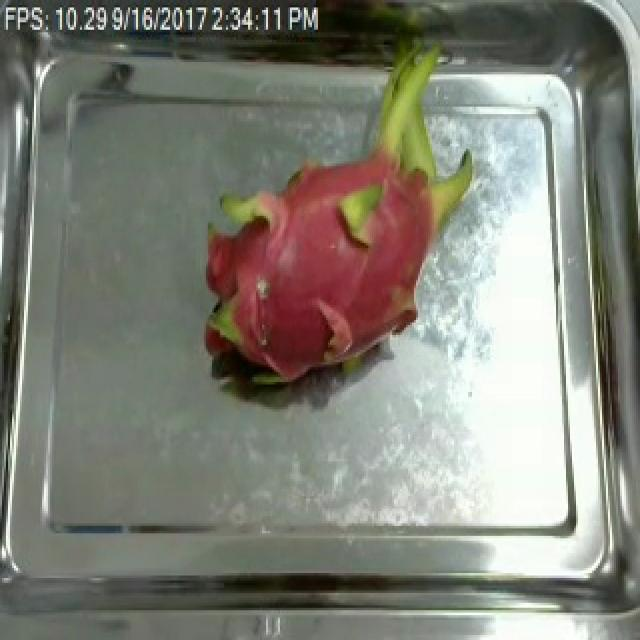fruit: (178, 12, 506, 420)
